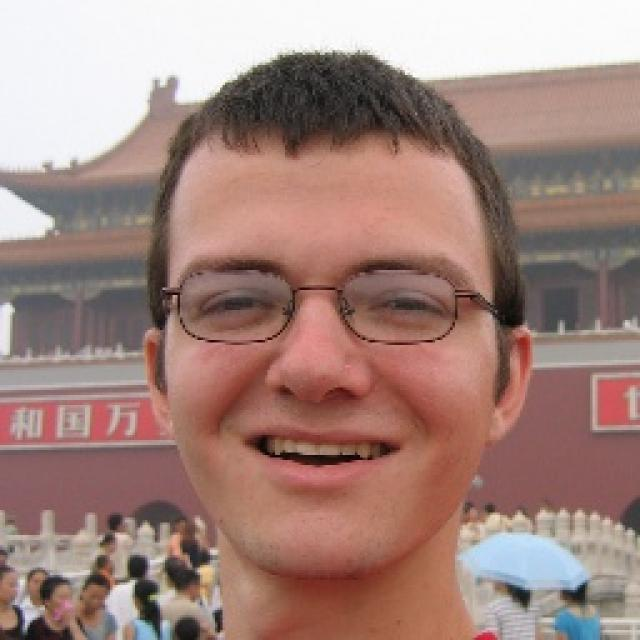earlobe: (483, 406, 513, 448), (156, 405, 175, 439)
eye: (367, 291, 448, 325), (204, 289, 272, 323)
nose: (267, 386, 370, 421)
wholeear: (482, 324, 534, 448), (143, 328, 175, 440)
